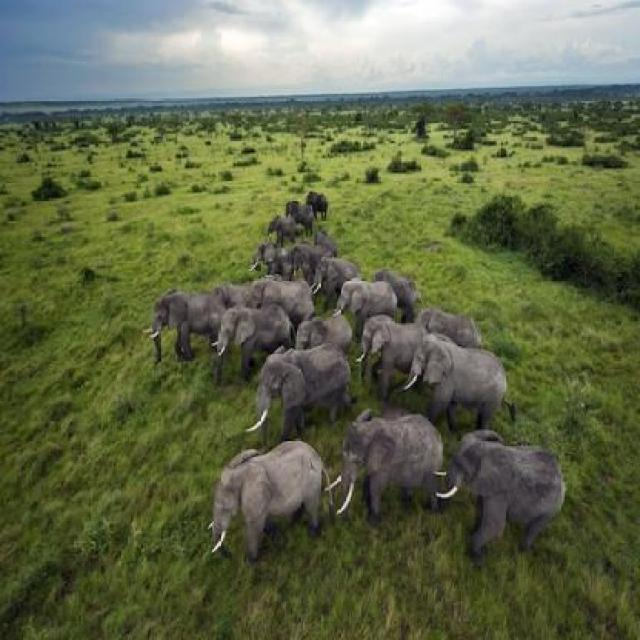elephant: (420, 428, 574, 587), (188, 443, 326, 552), (340, 404, 438, 508), (250, 352, 361, 433), (411, 336, 500, 419), (214, 300, 294, 372), (142, 288, 229, 354), (278, 308, 356, 370), (358, 316, 428, 382), (336, 274, 395, 334), (239, 274, 315, 320), (367, 268, 428, 320), (420, 311, 485, 358), (316, 251, 366, 303), (257, 237, 298, 281), (222, 270, 260, 316), (277, 194, 318, 235), (258, 213, 299, 239), (317, 226, 345, 263), (292, 232, 319, 270), (304, 184, 331, 213)
